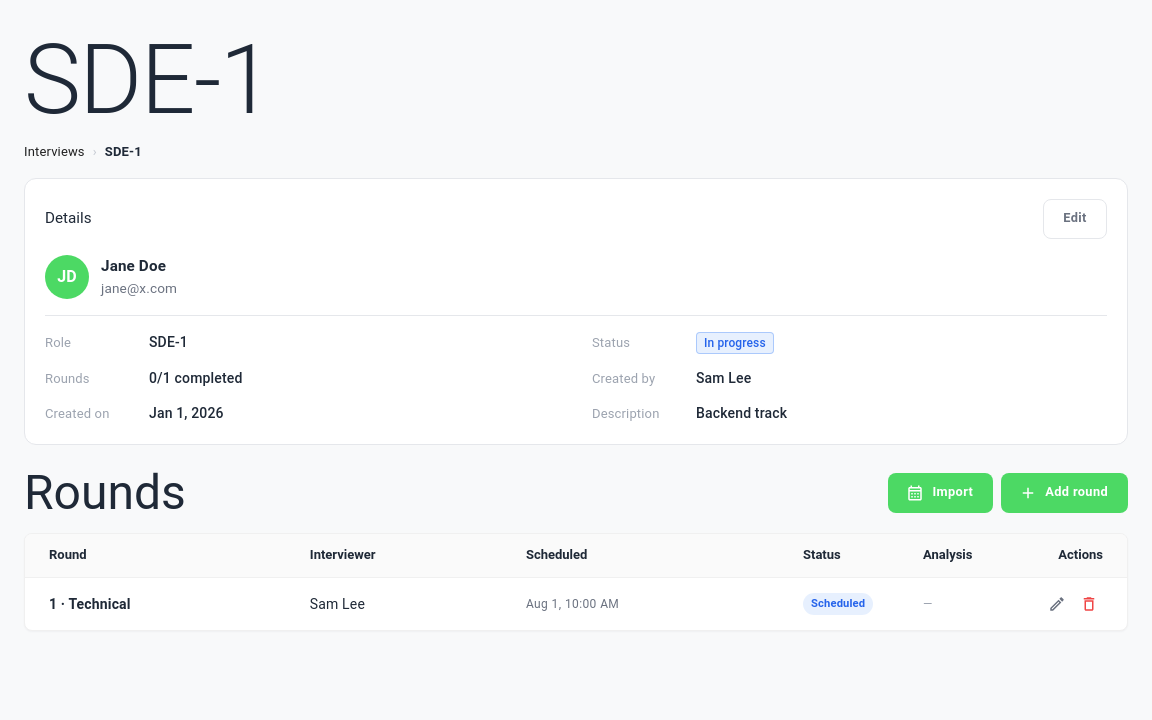
ProcessDetailPage — add round dialog › validates a missing round name
Expected: the heading "SDE-1" is shown, [24,24,272,136]
Click the button "Add round" at [1065, 492], box [1001,472,1128,512]
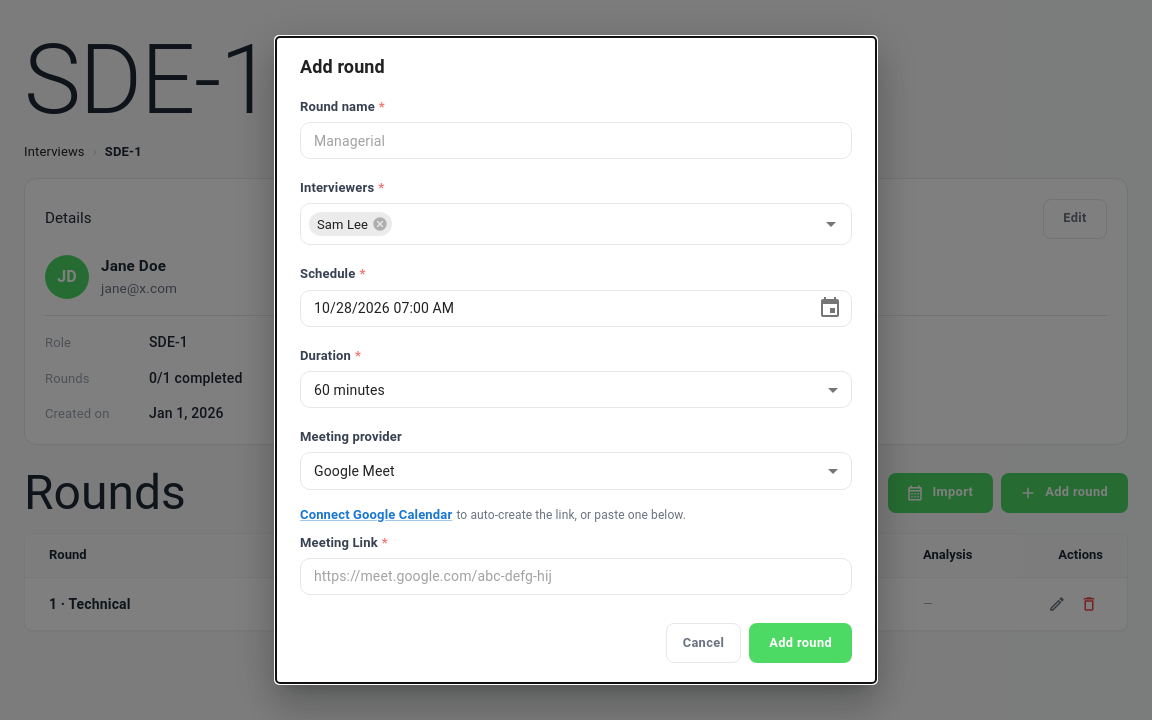
Click the button "Add round" at [801, 643], box [749,623,852,663]
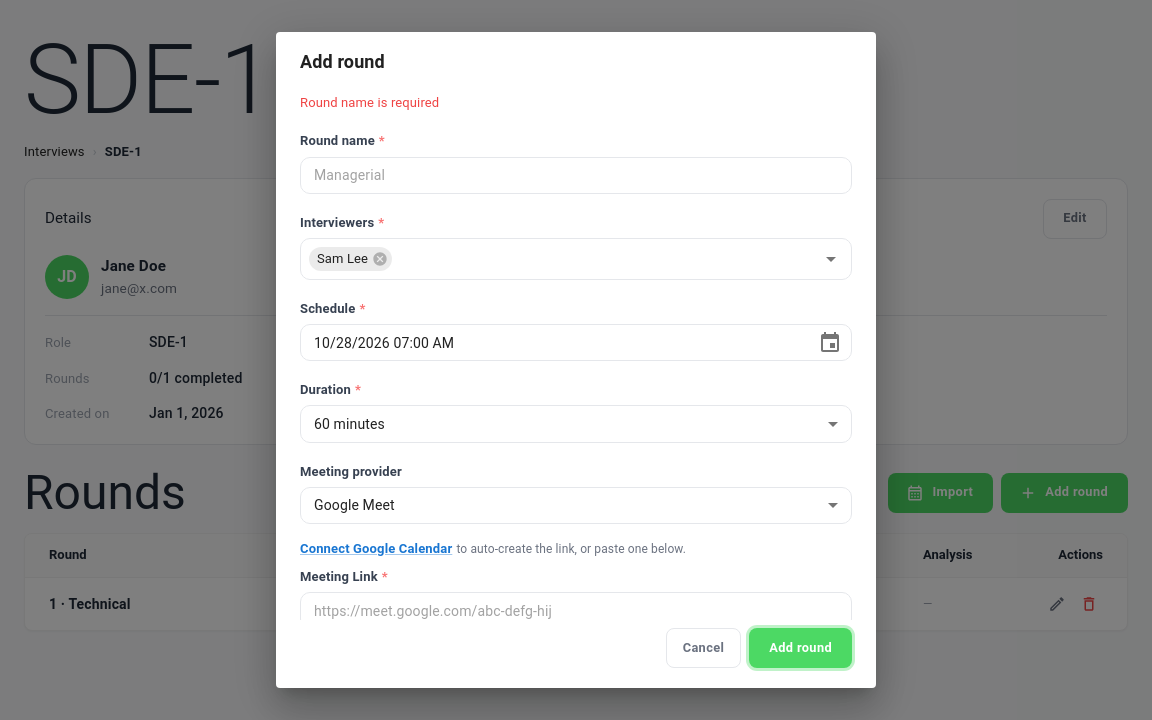
Expected: the text "Round name is required" is shown, [300,95,439,110]
